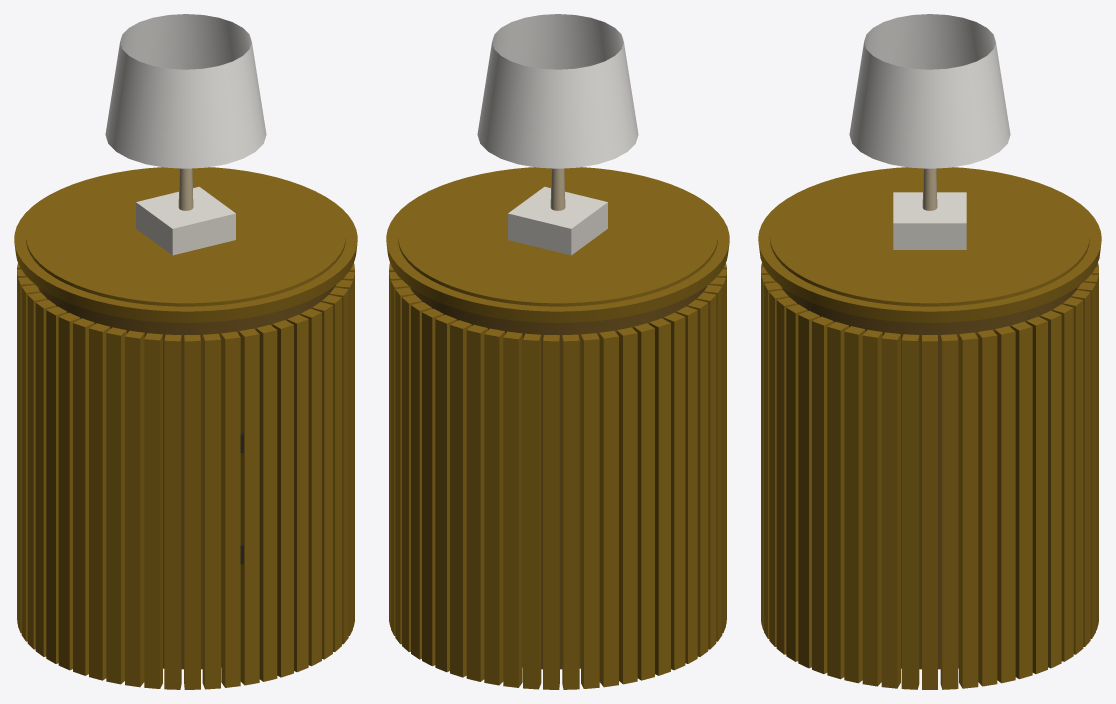
The model's file is oslo-side-table.glb.
3 views of the same model, side by side, from view 1: azimuth 30°, elevation 25°; view 2: azimuth 150°, elevation 25°; view 3: azimuth 270°, elevation 25° (orthographic).
Visible parts, largest first — view 1: OsloRoundSideTable; view 2: OsloRoundSideTable; view 3: OsloRoundSideTable.
Part boxes in pixels (x1,y1,x2,y2): OsloRoundSideTable: (14,14,357,689); OsloRoundSideTable: (386,14,729,689); OsloRoundSideTable: (758,14,1101,689).
Bounding box in the file's own units: 0.4692 × 0.8688 × 0.4692.
